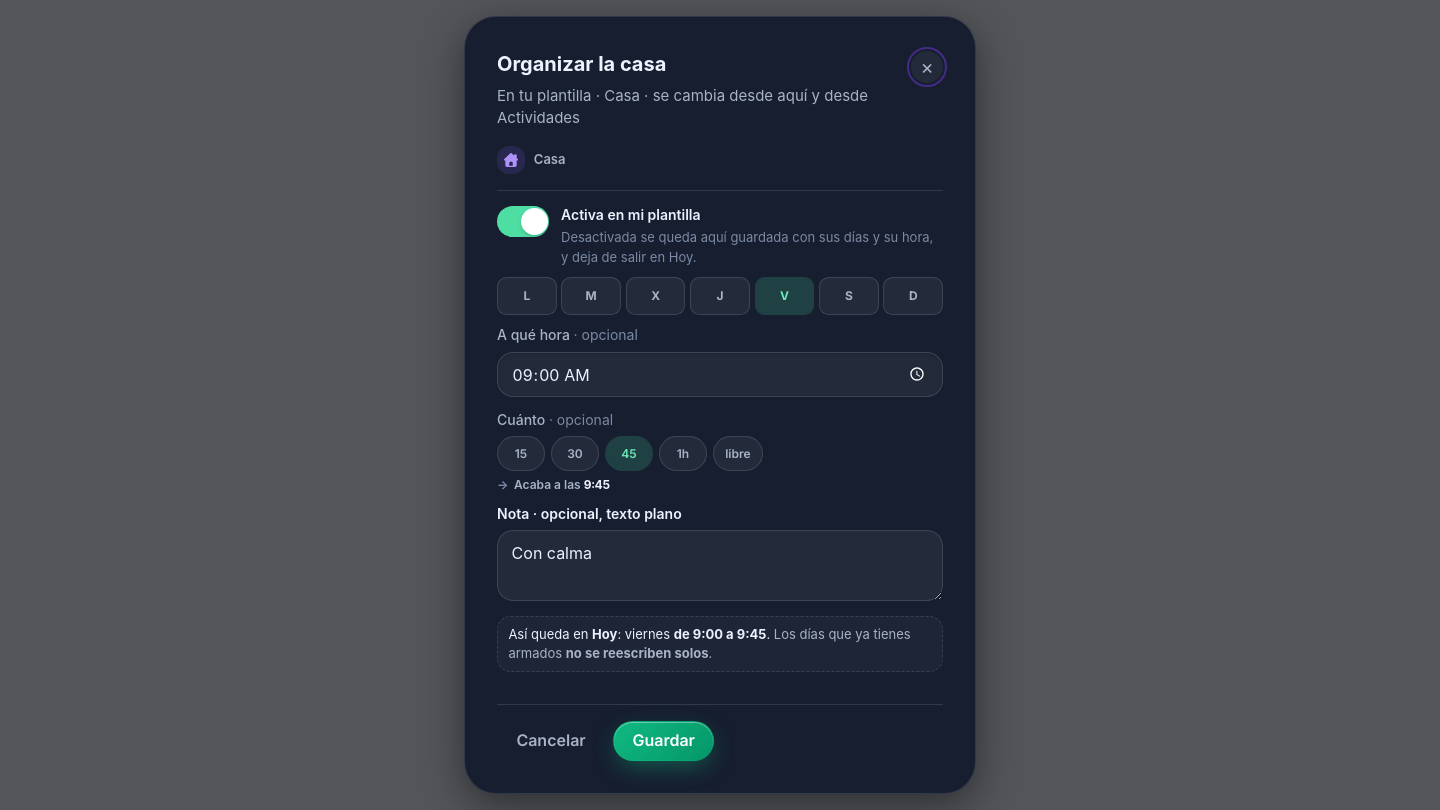
Test: VidaActivitySheet desde la plantilla (lockActivity) › quitar el último día **no se guarda** y se dice en el campo (criterio 23)
This screenshot has width=1440, height=810.
Step 1. Click the button named "viernes" → (784, 296), box [755, 277, 814, 315]
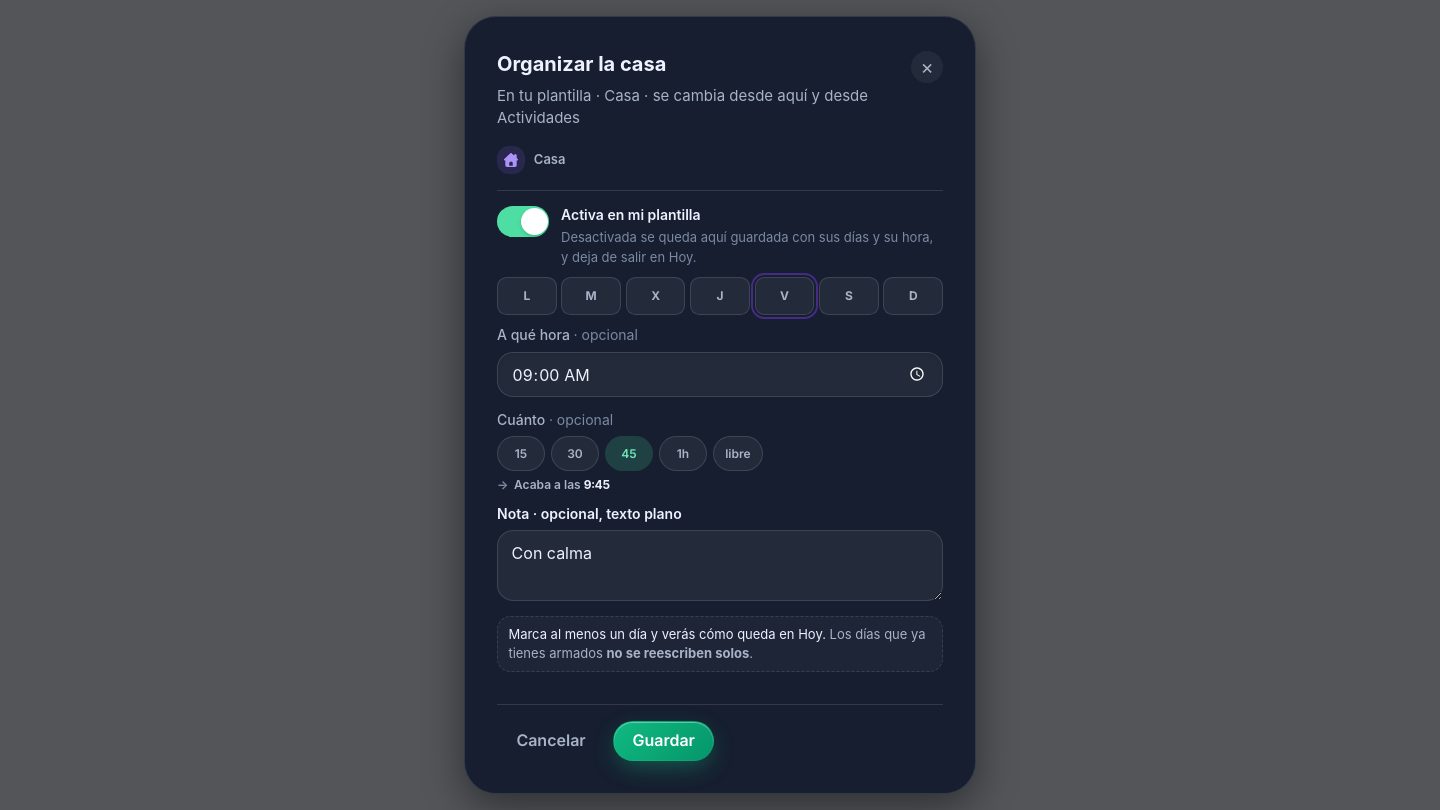
Step 2. Click the button "Guardar" → (664, 741), box [613, 721, 714, 761]
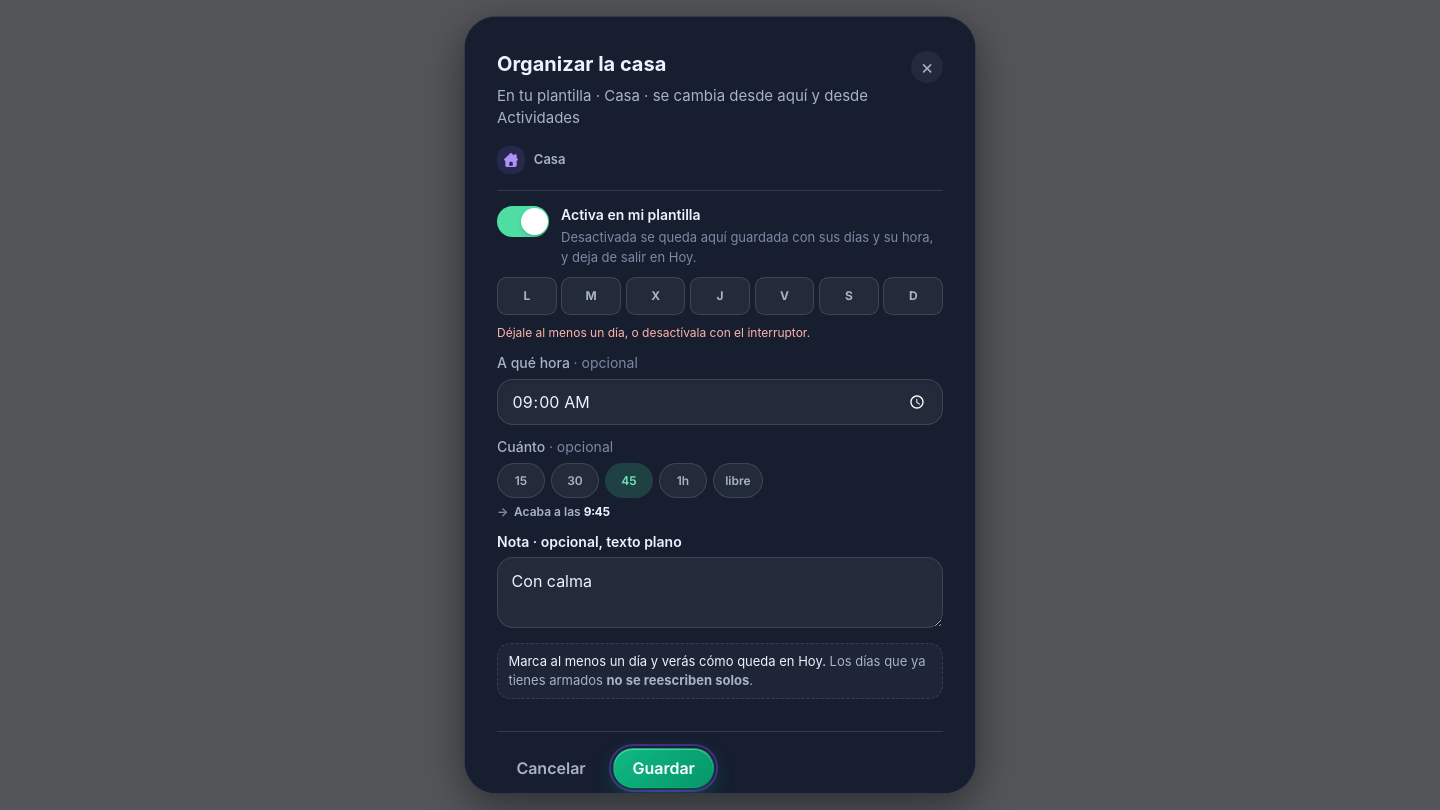
Now the text "Déjale al menos un día, o desactívala con el interruptor." is shown, box [497, 325, 810, 340]
